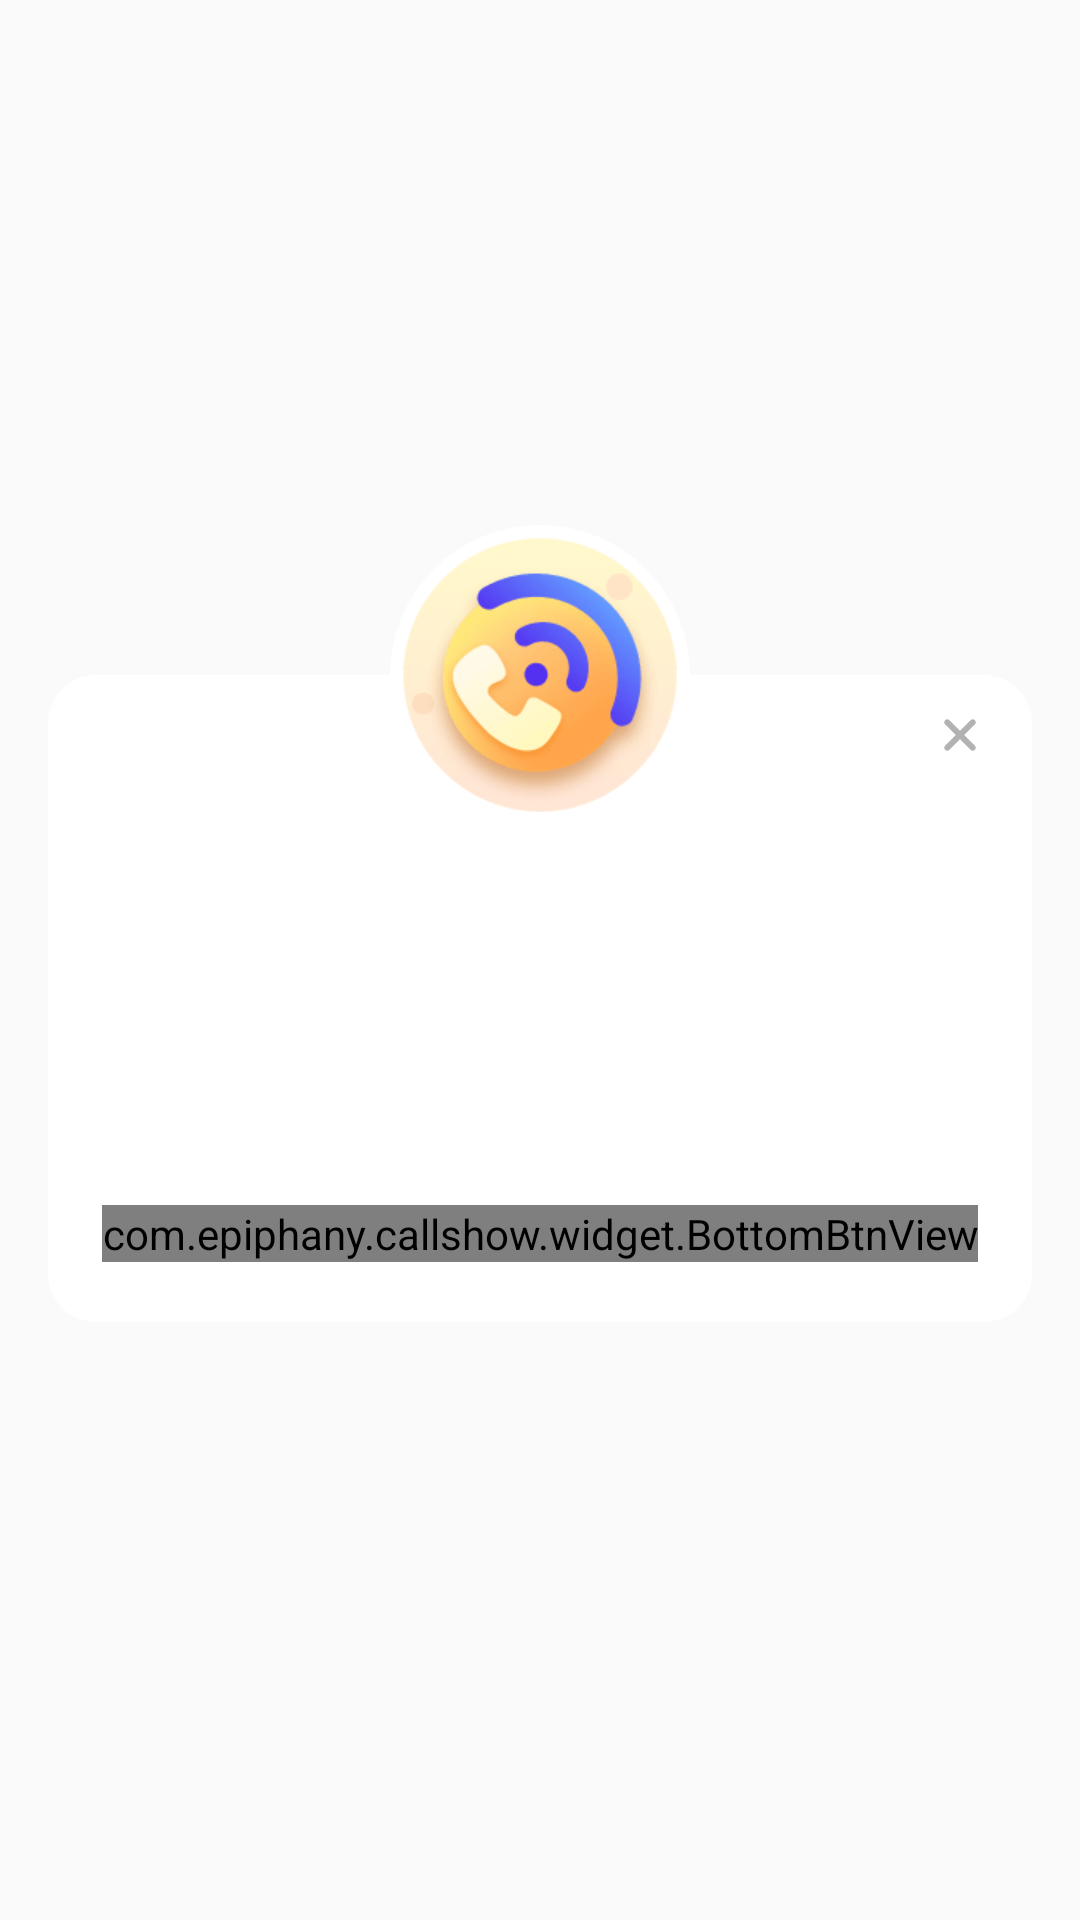

Named icons in this screenshot (1080px×1920px) and their bounding boxes, (x1, y1, x2, y2):
pop close: (944, 719, 976, 751)
